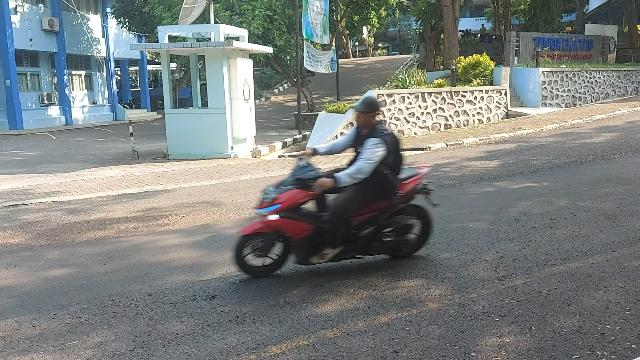motor: (235, 160, 437, 279)
non-helm: (350, 98, 381, 128)
